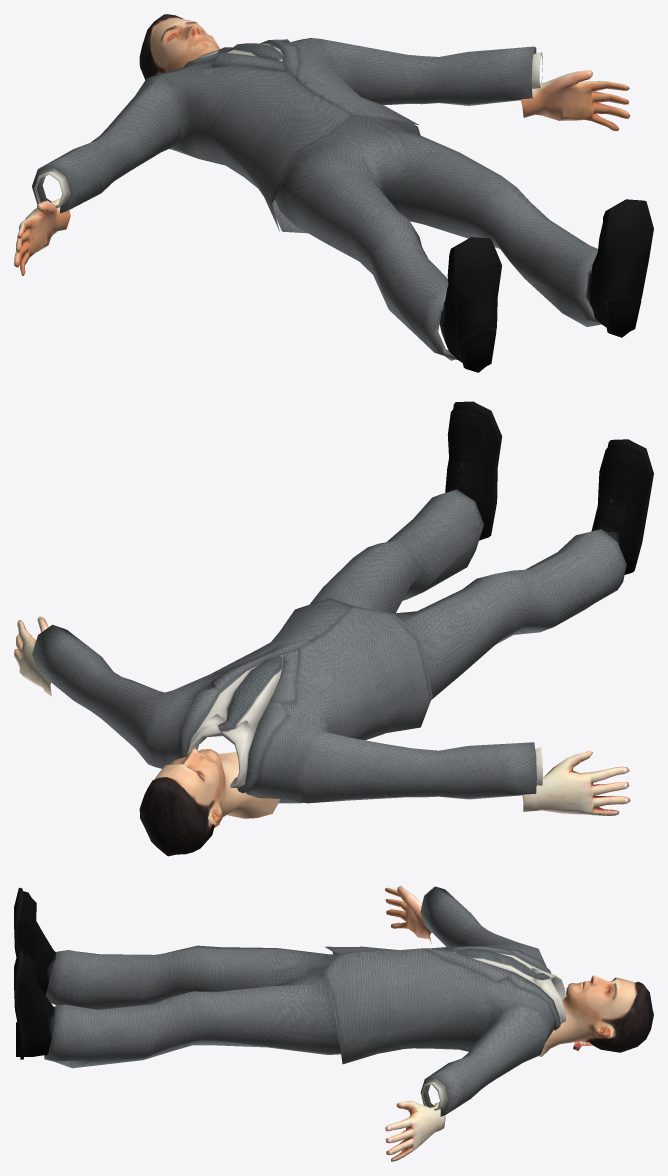
Rendered from npc.glb.
3 views of the same model, one above another, from view 1: azimuth 30°, elevation 25°; view 2: azimuth 150°, elevation 25°; view 3: azimuth 270°, elevation 25° (orthographic). The views are drawn at different scales.
Visible parts, largest first — view 1: RPG_NPC; view 2: RPG_NPC; view 3: RPG_NPC.
Part boxes in pixels (box(x1,y1,x2,y2)): RPG_NPC: box(14, 14, 653, 372); RPG_NPC: box(14, 401, 653, 856); RPG_NPC: box(14, 885, 653, 1161).
Size of the model in its own units: 1.52 by 0.3789 by 1.69.
Materials: 1 (1 with a texture image).
